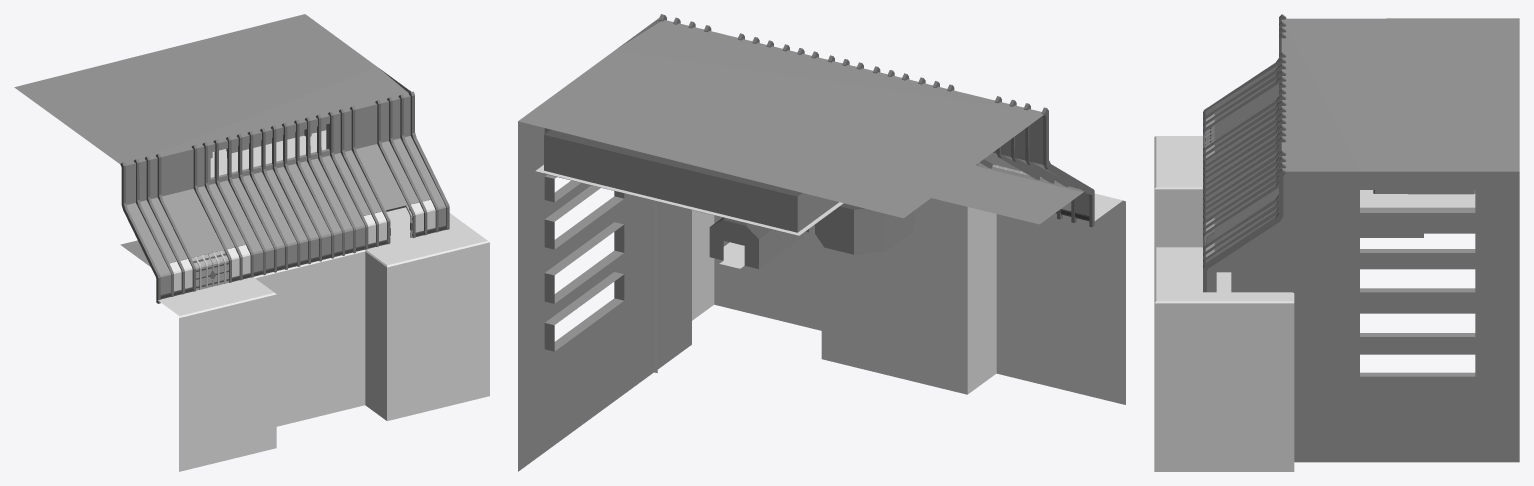
Rendered from office_jockey_1.FBX.
The picture shows the model from 3 angles, left to right: view 1: azimuth 30°, elevation 25°; view 2: azimuth 150°, elevation 25°; view 3: azimuth 270°, elevation 25°; orthographic projection. The views are drawn at different scales.
Visible parts, largest first — view 1: walls, floor, ridges, door_far, Box003, Box005, Box006; view 2: walls, floor, ridges; view 3: walls, floor, ridges.
Part boxes in pixels (box(x1,y1,x2,y2)): walls: box(14, 14, 445, 294); floor: box(158, 130, 489, 471); ridges: box(120, 91, 449, 303); door_far: box(191, 250, 228, 290); Box003: box(160, 225, 446, 299); Box005: box(411, 199, 435, 232); Box006: box(227, 245, 250, 277); walls: box(518, 17, 1089, 471); floor: box(536, 165, 1125, 404); ridges: box(659, 14, 1094, 227); walls: box(1204, 18, 1519, 462); floor: box(1154, 136, 1475, 471); ridges: box(1203, 14, 1286, 292).
Size of the model in its own units: 2374 by 1944 by 2201.
